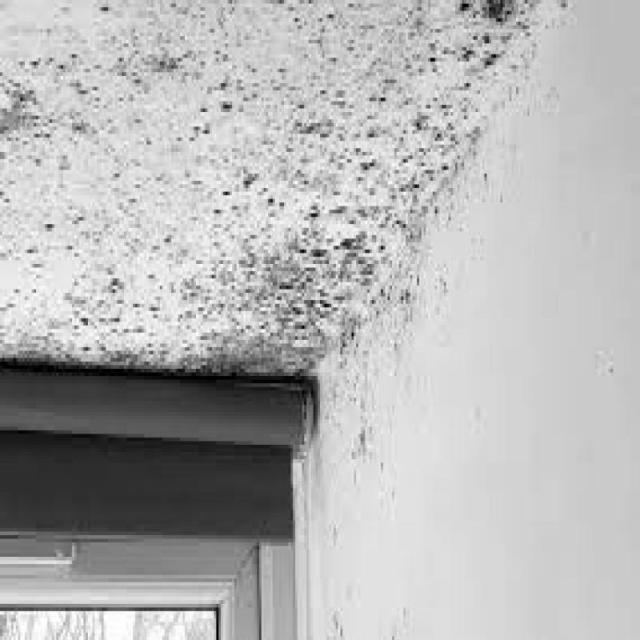stain marks: (0, 0, 568, 362)
